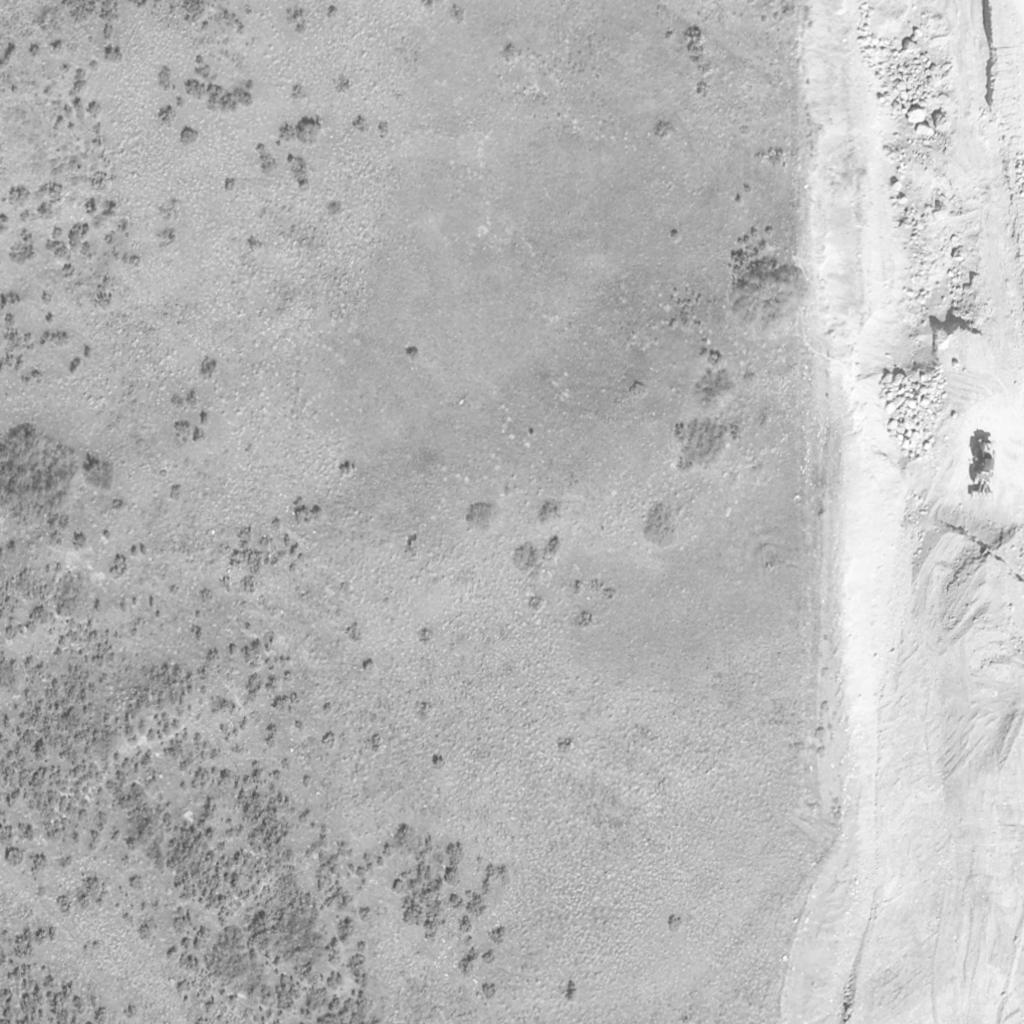vehicle: (970, 439, 998, 503)
